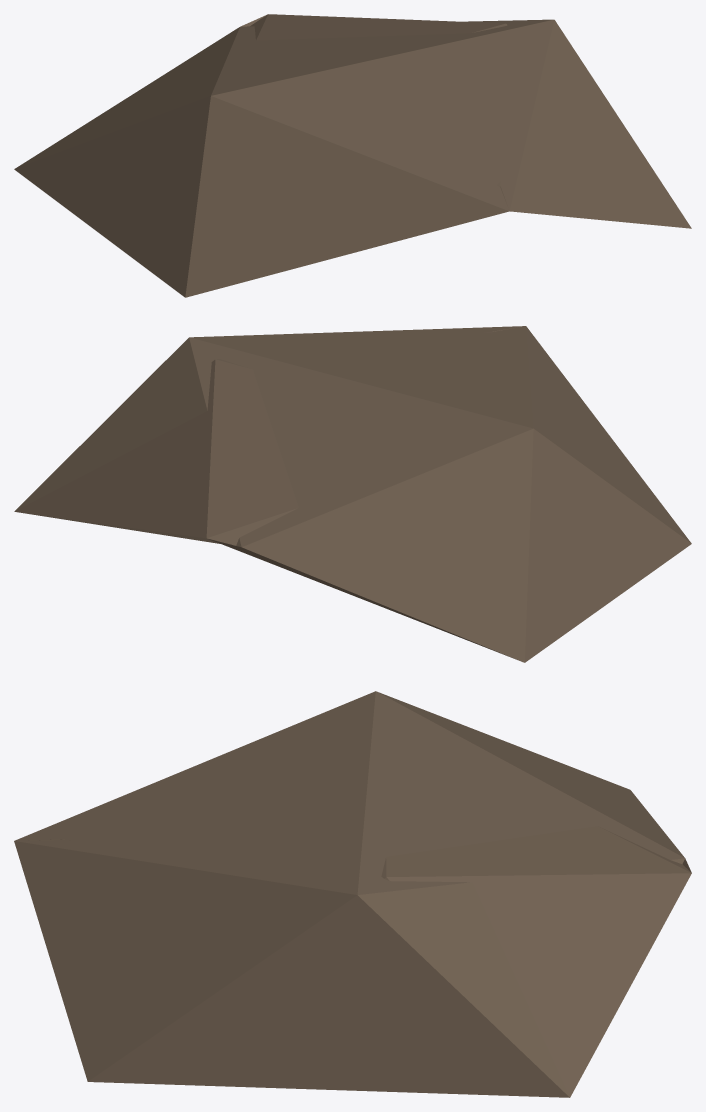
Rendered from p400_rock_a.dae.
3 renders of one model, top to bottom at view 1: azimuth 30°, elevation 25°; view 2: azimuth 150°, elevation 25°; view 3: azimuth 270°, elevation 25°, orthographic. The views are drawn at different scales.
Parts seen in each view (by area): view 1: p400_rock_a; view 2: p400_rock_a; view 3: p400_rock_a.
Part boxes in pixels (bbox=[...]): p400_rock_a: bbox=[14, 14, 691, 297]; p400_rock_a: bbox=[14, 326, 691, 662]; p400_rock_a: bbox=[14, 691, 691, 1097].
Bounding box in the file's own units: 1.78 × 1.64 × 0.4539.
